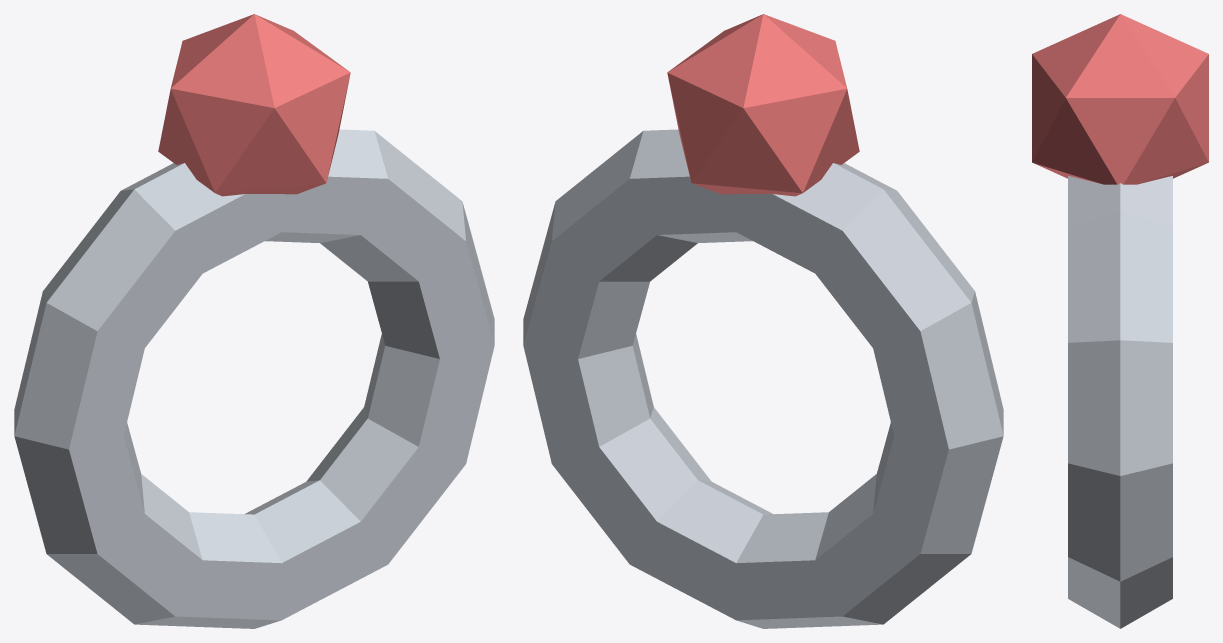
The model's file is RingBrawler.fbx.
3 renders of one model, left to right at view 1: azimuth 30°, elevation 25°; view 2: azimuth 150°, elevation 25°; view 3: azimuth 270°, elevation 25°, orthographic. The views are drawn at different scales.
Parts seen in each view (by area): view 1: fam_iron, fam_ruby_emit; view 2: fam_iron, fam_ruby_emit; view 3: fam_iron, fam_ruby_emit.
Boxes of the visible parts, x1,y1,x2,y2 form: fam_iron: (14,129,494,628); fam_ruby_emit: (158,14,350,196); fam_iron: (523,129,1003,628); fam_ruby_emit: (667,14,859,196); fam_iron: (1068,176,1172,628); fam_ruby_emit: (1032,14,1208,184).
Size of the model in its own units: 0.861 by 1.05 by 0.2858.
